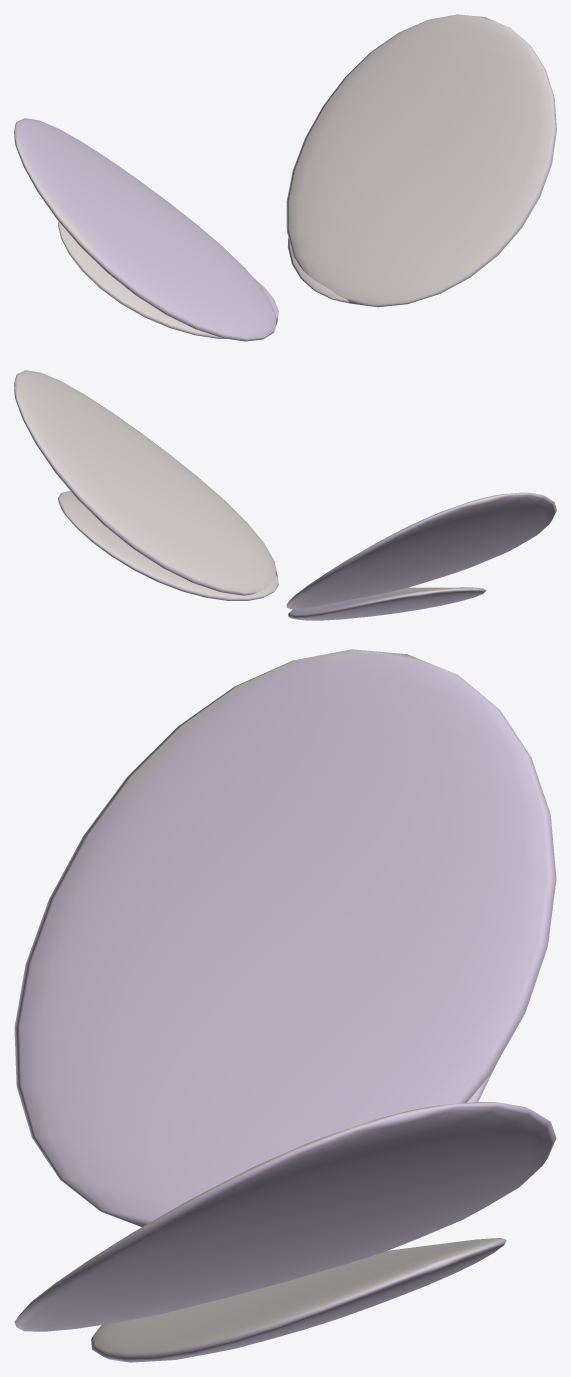
Rendered from bumblebee-starfighter-1-translucent.obj.
The picture shows the model from 3 angles, top to bottom: view 1: azimuth 30°, elevation 25°; view 2: azimuth 150°, elevation 25°; view 3: azimuth 270°, elevation 25°; orthographic projection. The views are drawn at different scales.
Visible parts, largest first — view 1: translucent; view 2: translucent; view 3: translucent.
Boxes of the visible parts, x1,y1,x2,y2 form: translucent: (14, 14, 556, 341); translucent: (14, 370, 556, 620); translucent: (14, 649, 556, 1362).
Size of the model in its own units: 155 by 56.22 by 71.93.
